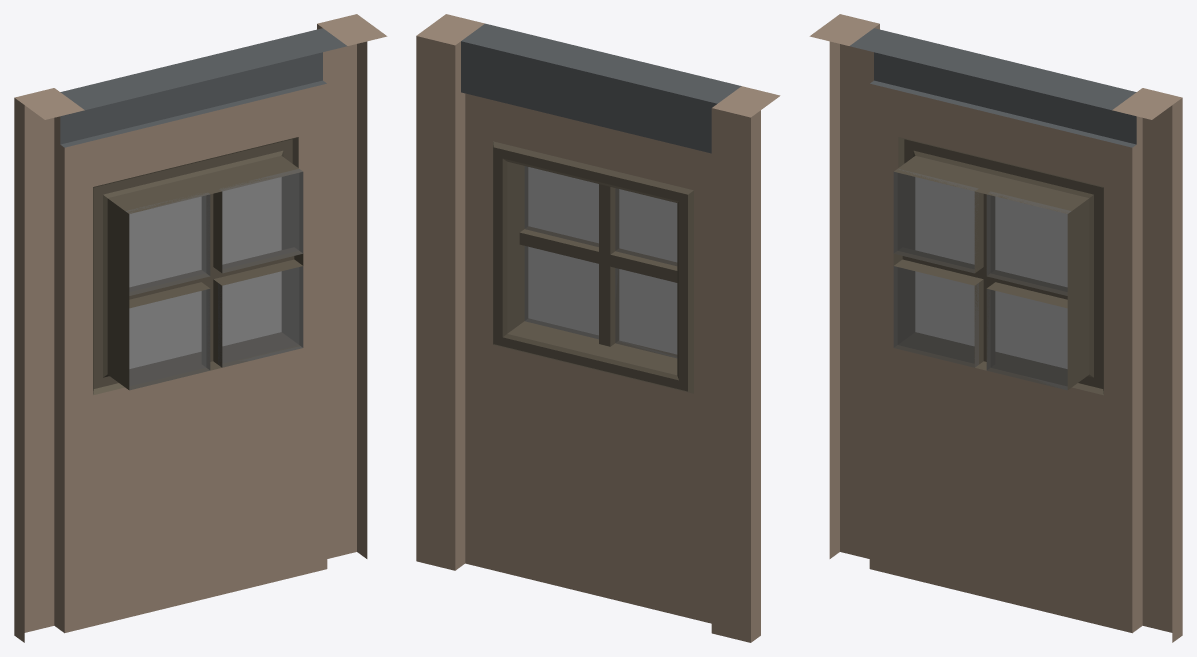
File: Pillar_real_window.fbx
The picture shows the model from 3 angles, left to right: view 1: azimuth 30°, elevation 25°; view 2: azimuth 150°, elevation 25°; view 3: azimuth 330°, elevation 25°; orthographic projection. The views are drawn at different scales.
Visible parts, largest first — view 1: Wall_1.019; view 2: Wall_1.019; view 3: Wall_1.019.
Boxes of the visible parts, box(x1,y1,x2,y2) form: Wall_1.019: box(14, 14, 387, 642); Wall_1.019: box(416, 14, 780, 642); Wall_1.019: box(809, 14, 1182, 642).
Bounding box in the file's own units: 200 × 300 × 31.
